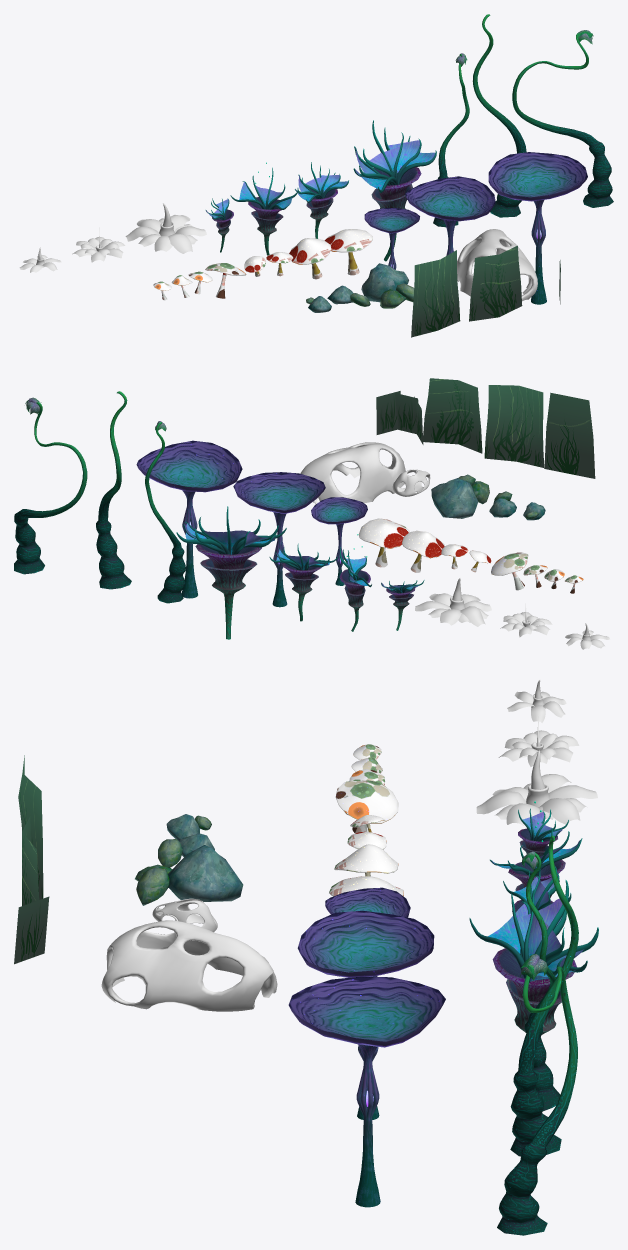
The model's file is alienWorldExplorer_edit_for_FBX.fbx.
3 views of the same model, one above another, from view 1: azimuth 30°, elevation 25°; view 2: azimuth 150°, elevation 25°; view 3: azimuth 270°, elevation 25° (orthographic). The views are drawn at different scales.
Visible parts, largest first — view 1: Mushroom11, Plants07, Mushroom10, Grass02, Grass03, Plants10, Rocks05, Plants03, Plants05, Rocks03, Plants06, Plants09 (+8 smaller); view 2: Mushroom11, Grass02, Plants07, Rocks05, Grass01, Mushroom10, Grass03, Plants10, Plants09, Rocks03, Grass04, Plants03 (+12 smaller); view 3: Rocks05, Mushroom11, Mushroom10, Plants07, Plants10, Plants09, Rocks03, Plants03, Mushroom04, Plants08, Mushroom09, Plants02 (+12 smaller).
Part boxes in pixels (x1,y1,x2,y2): Mushroom11: (488,152,587,304); Plants07: (353,120,436,261); Mushroom10: (405,176,495,255); Grass02: (411,250,460,337); Grass03: (469,245,522,321); Plants10: (512,30,613,207); Rocks05: (457,229,537,301); Plants03: (125,203,206,253); Plants05: (230,162,298,255); Rocks03: (361,263,414,308); Plants06: (295,162,348,238); Plants09: (472,14,526,217); Mushroom11: (136,440,242,598); Grass02: (484,385,544,467); Plants07: (176,506,286,639); Rocks05: (300,442,405,504); Grass01: (544,392,595,478); Mushroom10: (233,472,325,607); Grass03: (423,378,482,453); Plants10: (14,397,87,574); Plants09: (96,391,131,589); Rocks03: (431,474,489,518); Grass04: (376,391,423,444); Plants03: (415,577,491,626); Rocks05: (101,920,277,1011); Mushroom11: (288,976,445,1207); Mushroom10: (297,910,434,1119); Plants07: (469,880,598,1034); Plants10: (497,954,577,1235); Plants09: (510,835,578,1156); Rocks03: (135,845,243,905); Plants03: (476,750,597,825); Mushroom04: (335,779,398,833); Plants08: (522,851,560,1111); Mushroom09: (325,887,410,917); Plants02: (498,716,579,766).
Bounding box in the file's own units: 2736 × 1069 × 1559.
